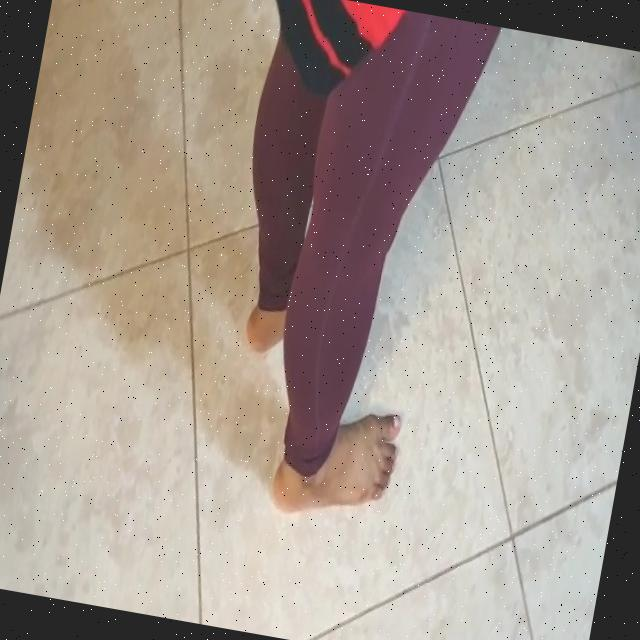no-boots: (262, 393, 408, 534)
